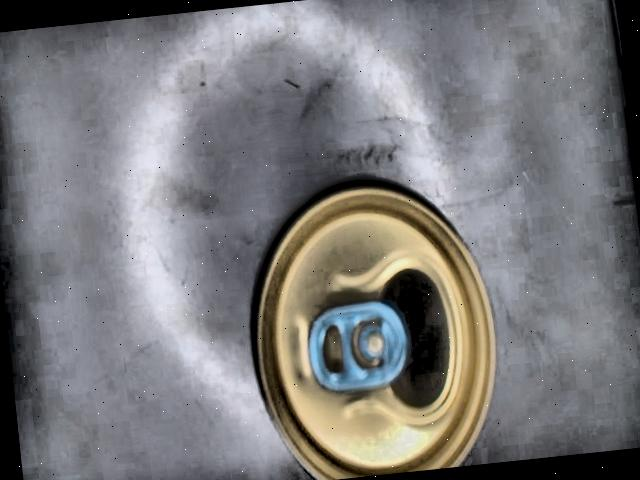Bottles: (251, 178, 498, 480)
